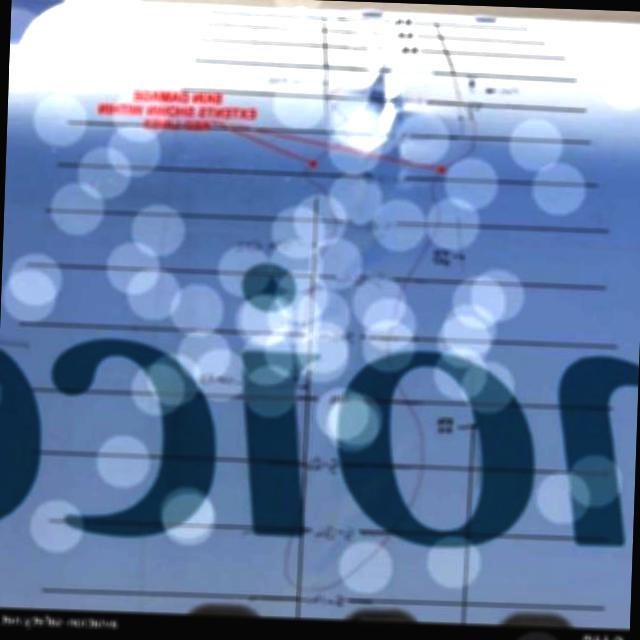dent: (354, 30, 396, 94)
